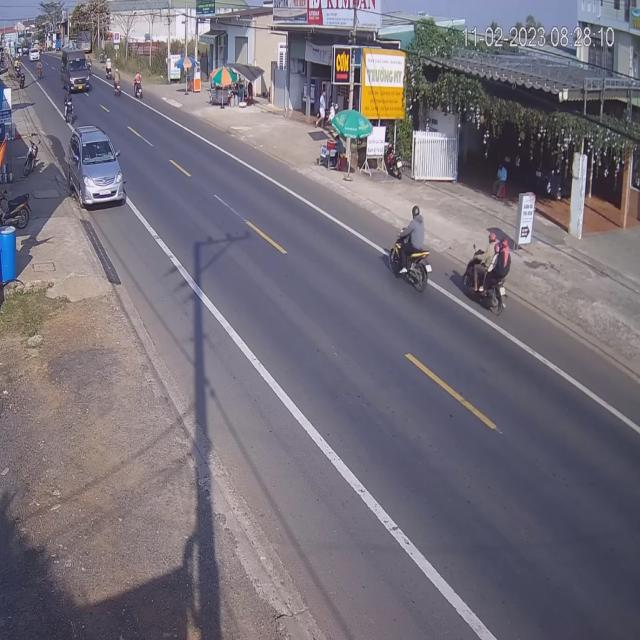bus: (63, 52, 89, 93)
car: (68, 126, 126, 209)
motorbike: (462, 231, 511, 318), (389, 205, 433, 292), (65, 90, 76, 124), (134, 74, 144, 104), (113, 71, 121, 96)
